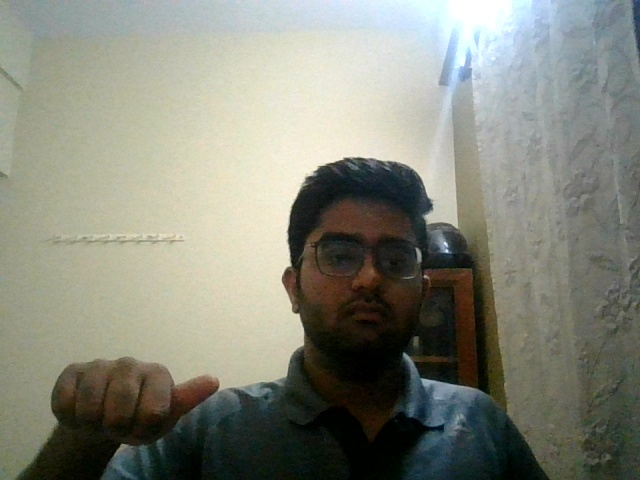Yes: (45, 342, 227, 468)
